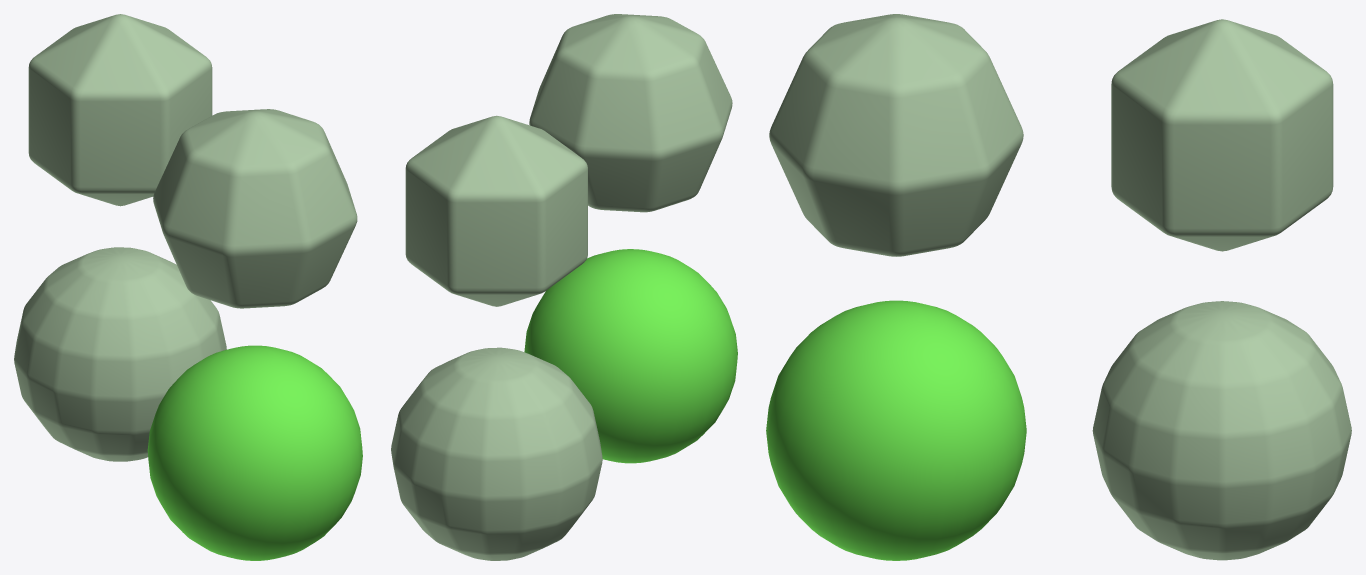
The model's file is iteration.gltf.
The picture shows the model from 3 angles, left to right: view 1: azimuth 30°, elevation 25°; view 2: azimuth 150°, elevation 25°; view 3: azimuth 270°, elevation 25°; orthographic projection. The views are drawn at different scales.
Visible parts, largest first — view 1: Sphere003, Sphere001, Sphere004, Sphere002; view 2: Sphere004, Sphere003, Sphere001, Sphere002; view 3: Sphere003, Sphere004, Sphere001, Sphere002.
Part boxes in pixels (x1,y1,x2,y2): Sphere003: [147, 345, 362, 560]; Sphere001: [153, 109, 357, 308]; Sphere004: [14, 247, 226, 461]; Sphere002: [28, 14, 212, 206]; Sphere004: [391, 347, 602, 560]; Sphere003: [524, 249, 737, 463]; Sphere001: [529, 14, 732, 212]; Sphere002: [405, 115, 587, 306]; Sphere003: [766, 300, 1026, 560]; Sphere004: [1092, 301, 1351, 560]; Sphere001: [769, 14, 1023, 256]; Sphere002: [1111, 19, 1333, 251].
Size of the model in its own units: 0.016 by 0.0358 by 0.036.
